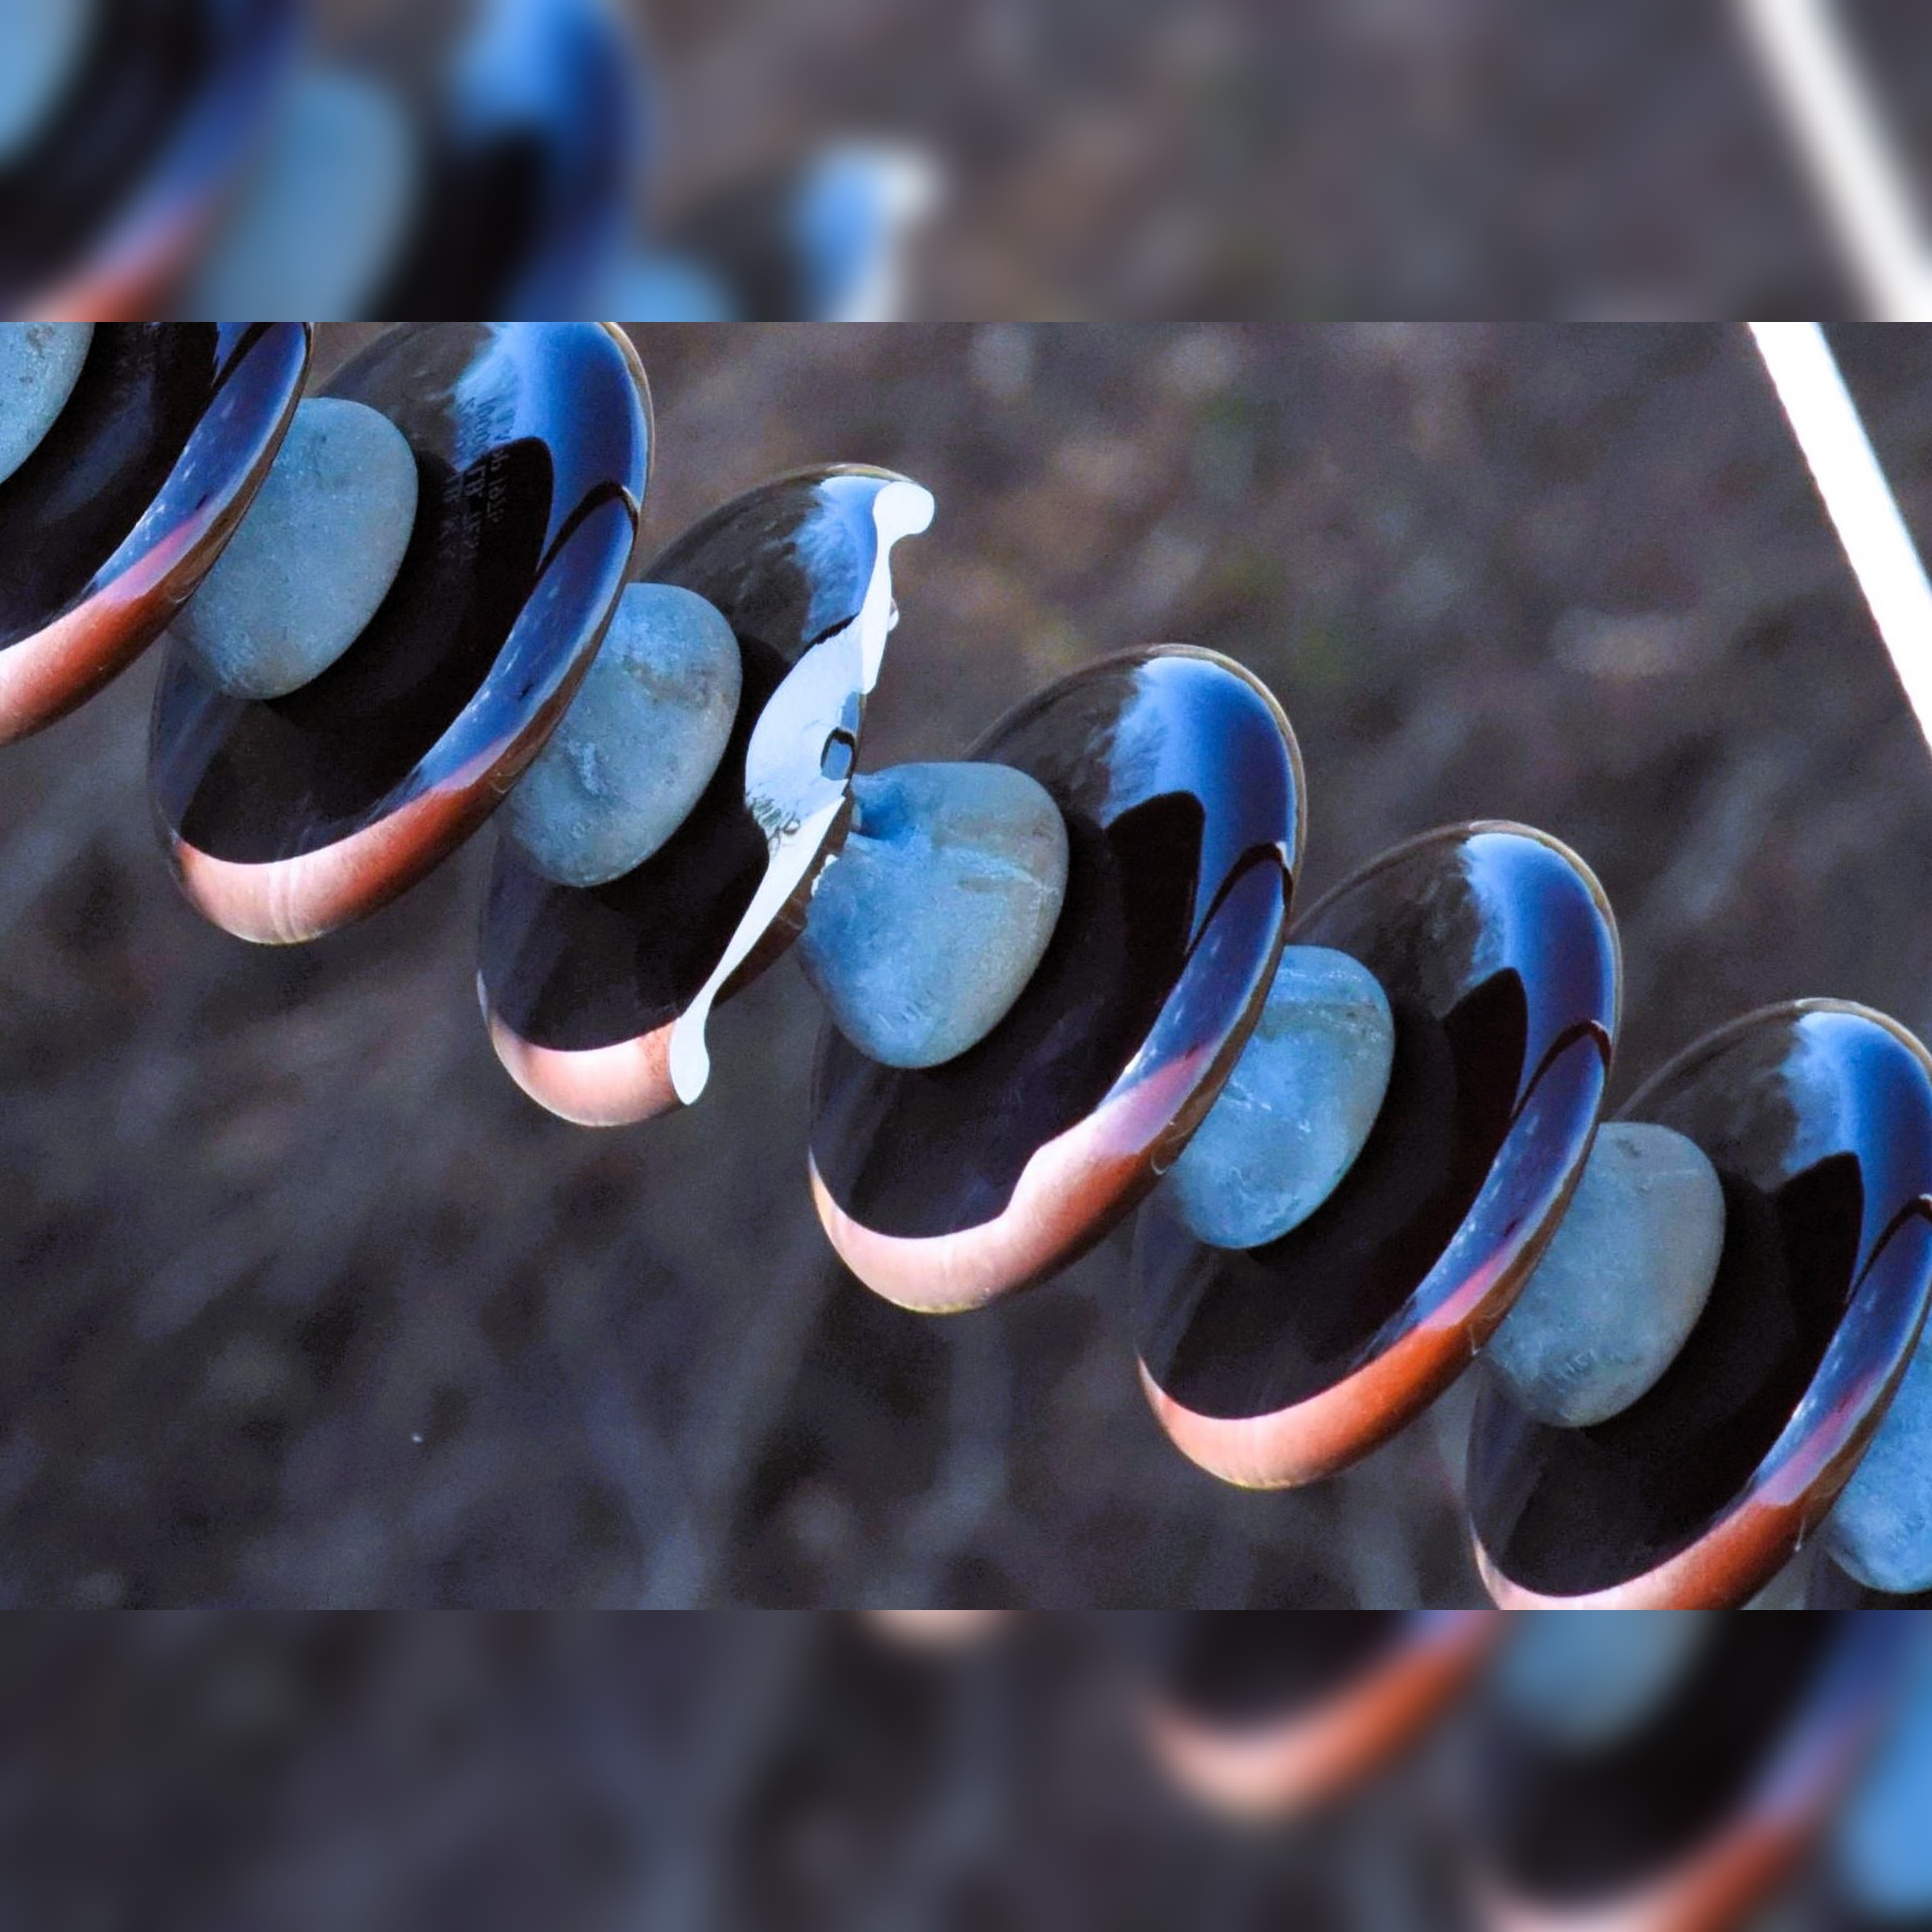insulator breakage: (451, 451, 968, 1146)
